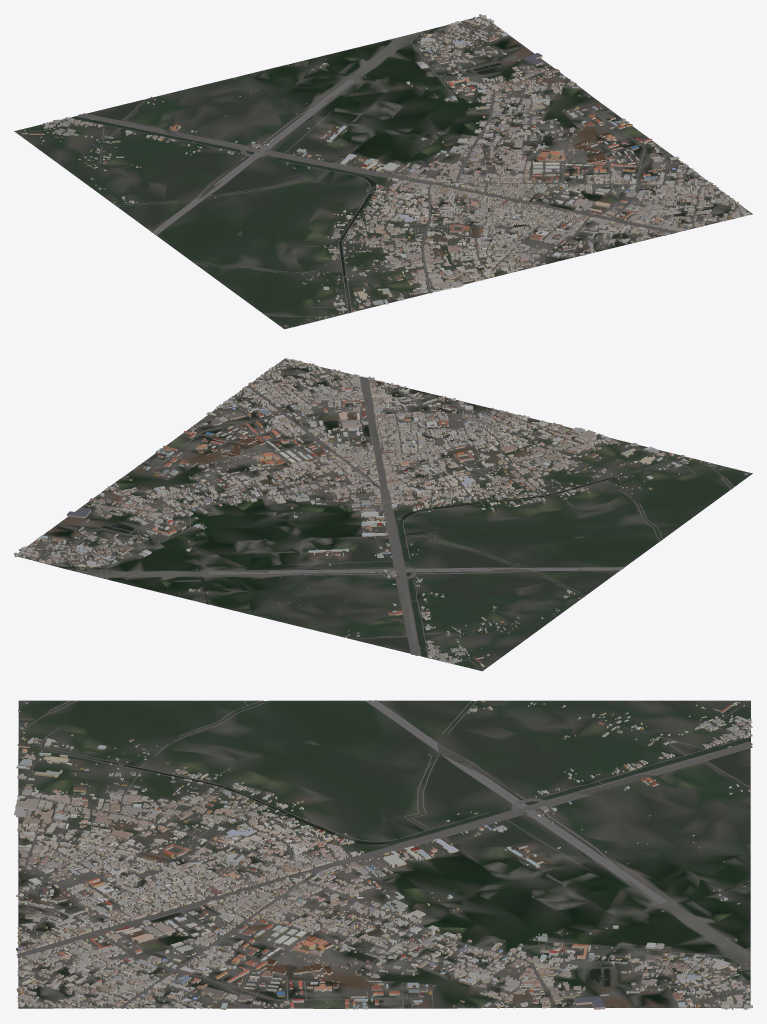
3 renders of one model, top to bottom at view 1: azimuth 30°, elevation 25°; view 2: azimuth 150°, elevation 25°; view 3: azimuth 270°, elevation 25°, orthographic. The views are drawn at different scales.
Visible parts, largest first — view 1: ground, buildings, roads, water; view 2: ground, buildings, roads, water; view 3: ground, buildings, roads, water.
Boxes of the visible parts, x1,y1,x2,y2 form: ground: (14,16,752,329); buildings: (22,14,750,326); roads: (29,17,741,316); water: (71,63,500,283); ground: (17,358,752,671); buildings: (14,358,747,667); roads: (20,362,733,665); water: (101,473,629,657); ground: (18,700,750,1008); buildings: (14,700,752,1009); roads: (17,700,752,1008); water: (26,738,750,986).
Size of the model in its own units: 2821 by 32.95 by 2827.
